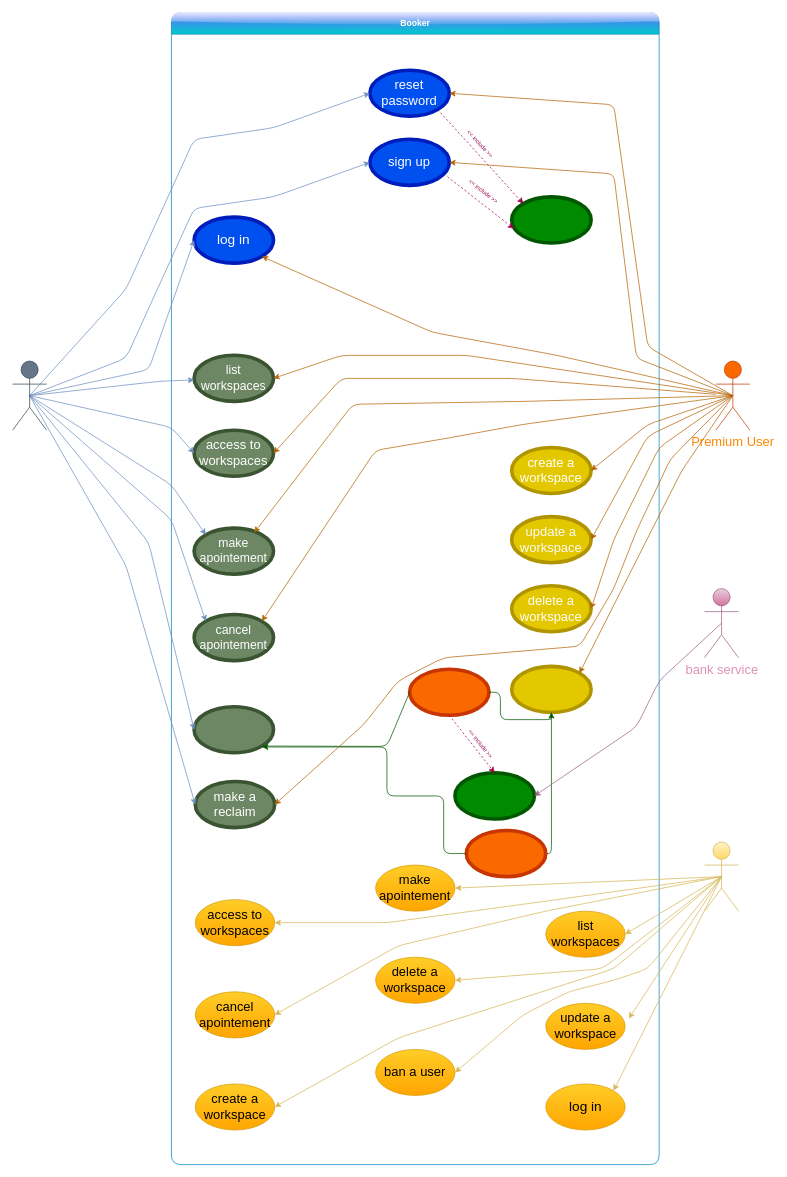
This 787x1177 diagram has some shape labels left out. The box of each missing label's shape, as (x1, y1, x2, y2) in pixels:
accout verification: (510, 195, 593, 244)
Admin: (704, 841, 739, 911)
bank card: (407, 667, 490, 717)
bank verification: (453, 771, 536, 820)
monthly payment: (510, 664, 593, 714)
paypal account: (464, 828, 547, 878)
upgrade to premium: (192, 705, 275, 754)
User: (12, 360, 47, 430)
